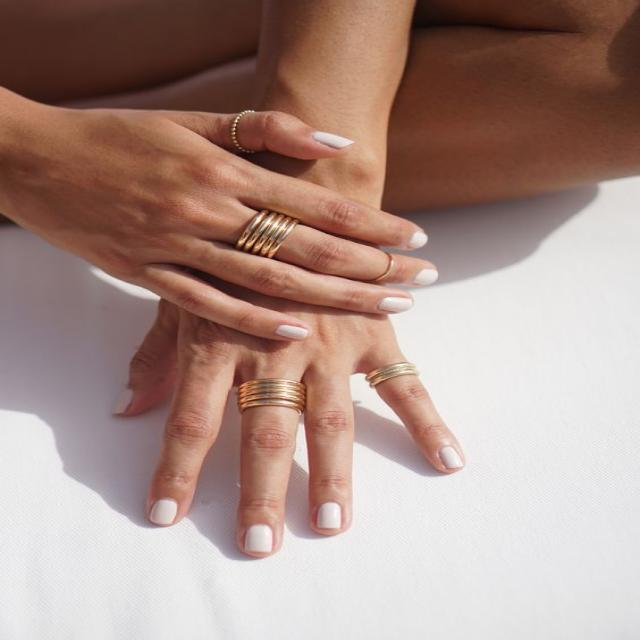Fingernail: (150, 498, 178, 525), (245, 524, 272, 552), (314, 131, 352, 150), (317, 502, 341, 529), (376, 297, 413, 313), (440, 446, 464, 469), (111, 390, 133, 415), (276, 325, 308, 340), (414, 269, 438, 285), (411, 232, 428, 248)
